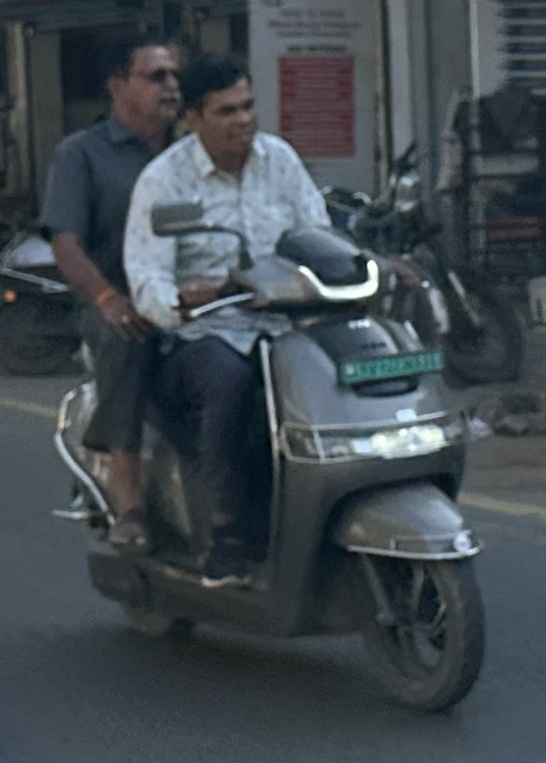BikeWithRider: (38, 25, 499, 717)
NoHelmet: (180, 55, 270, 159), (96, 35, 185, 130)
